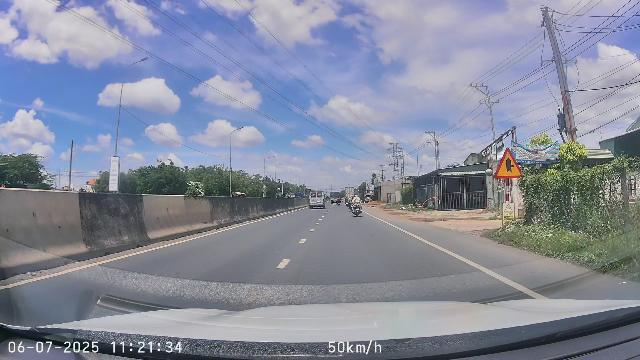207-giao-nhau-voi-duong-khong-uu-tien: (494, 148, 522, 178)
